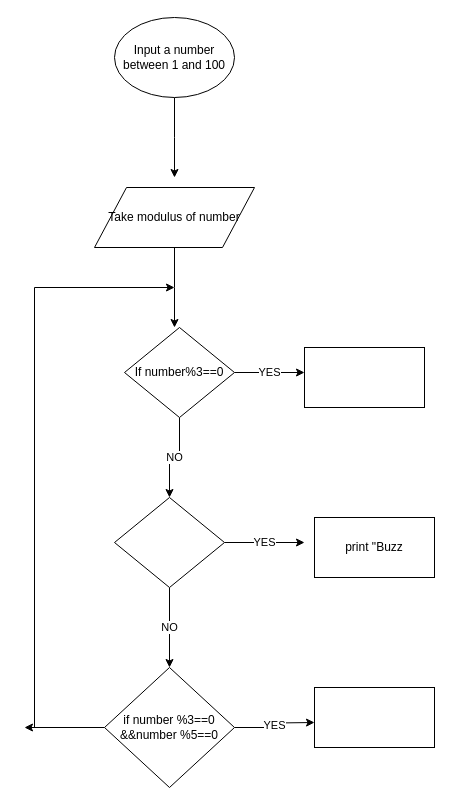
Image size: 452x805. Some labels were removed from this diagram. The centre of each missing label's shape, as x and y in pixels:
if number % 5==0: [169,542]
print "FIzz": [364,377]
print "FizzBuzz": [374,717]
